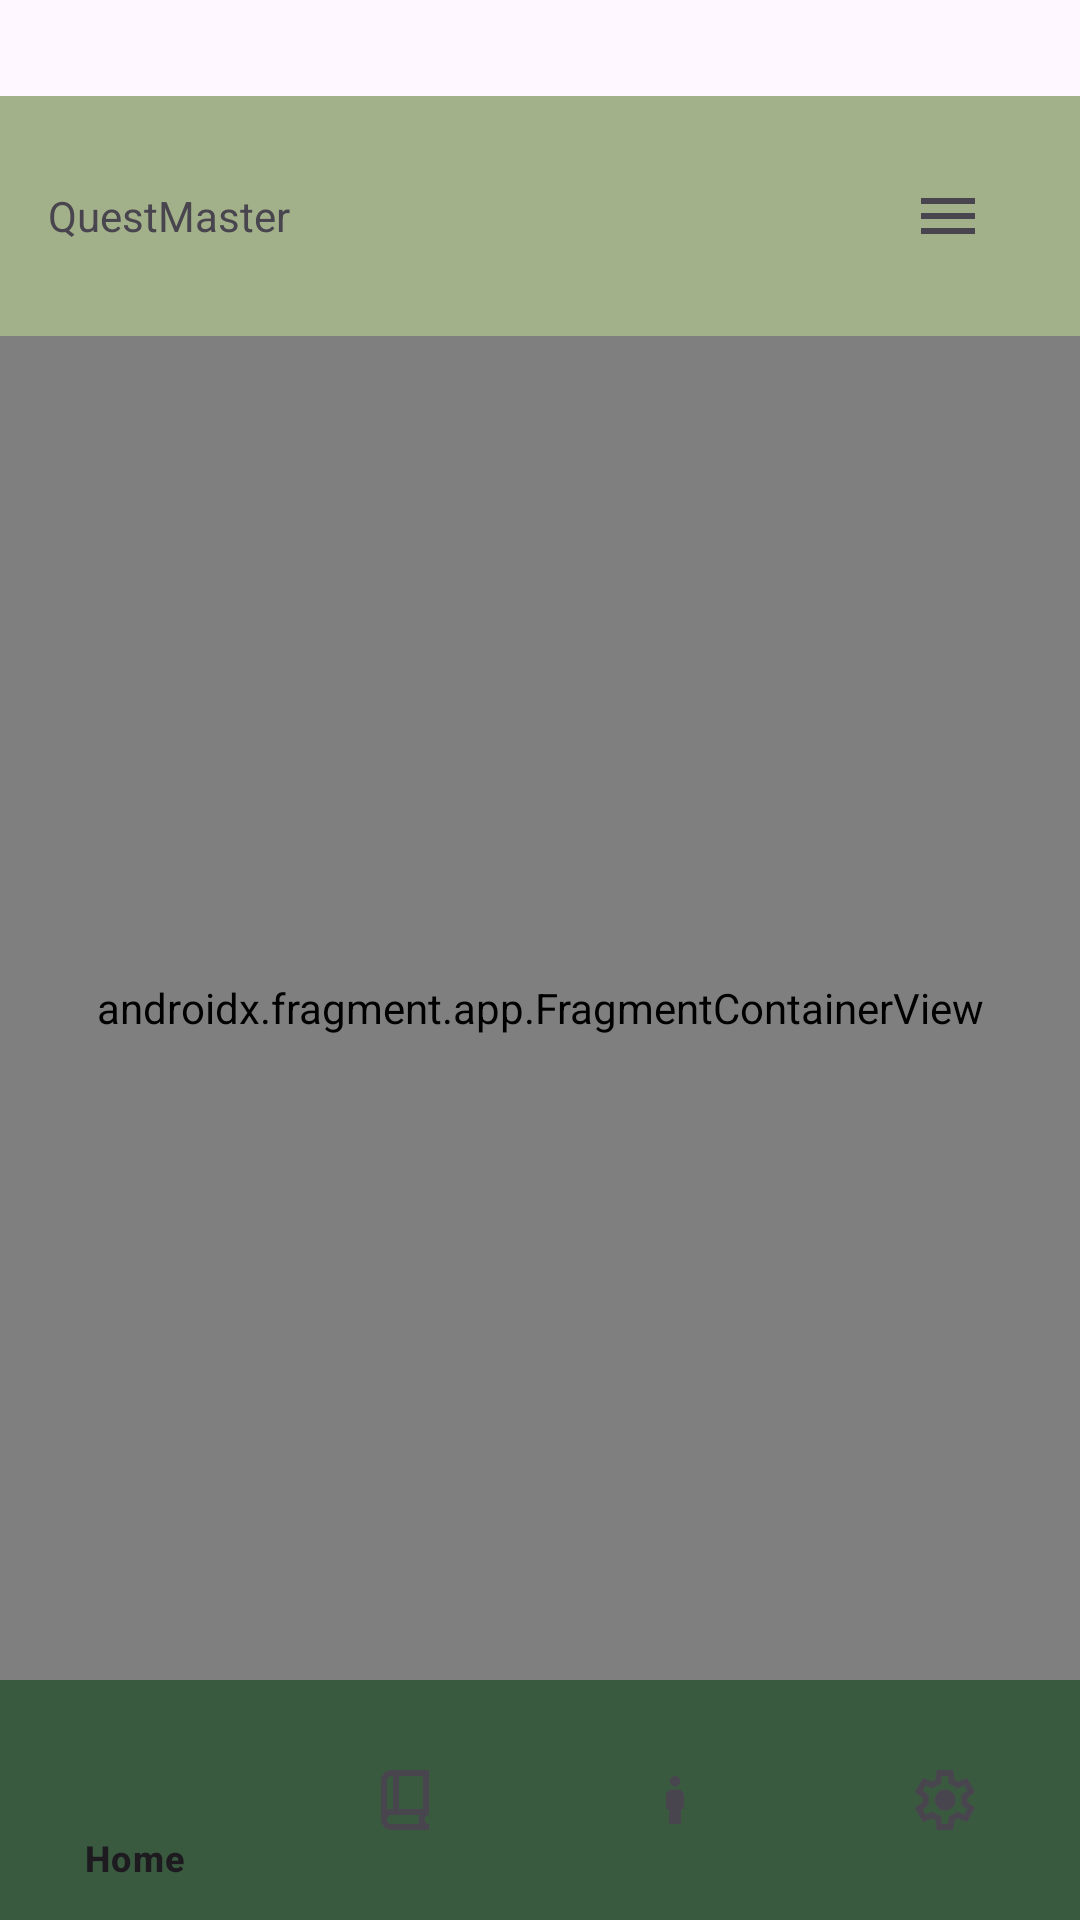

Locate icon controls on the screen. Image size 1080px×1920px, boxes as detection(x1, y1, x2, y2).
menu button status bar: detection(921, 198, 975, 234)
